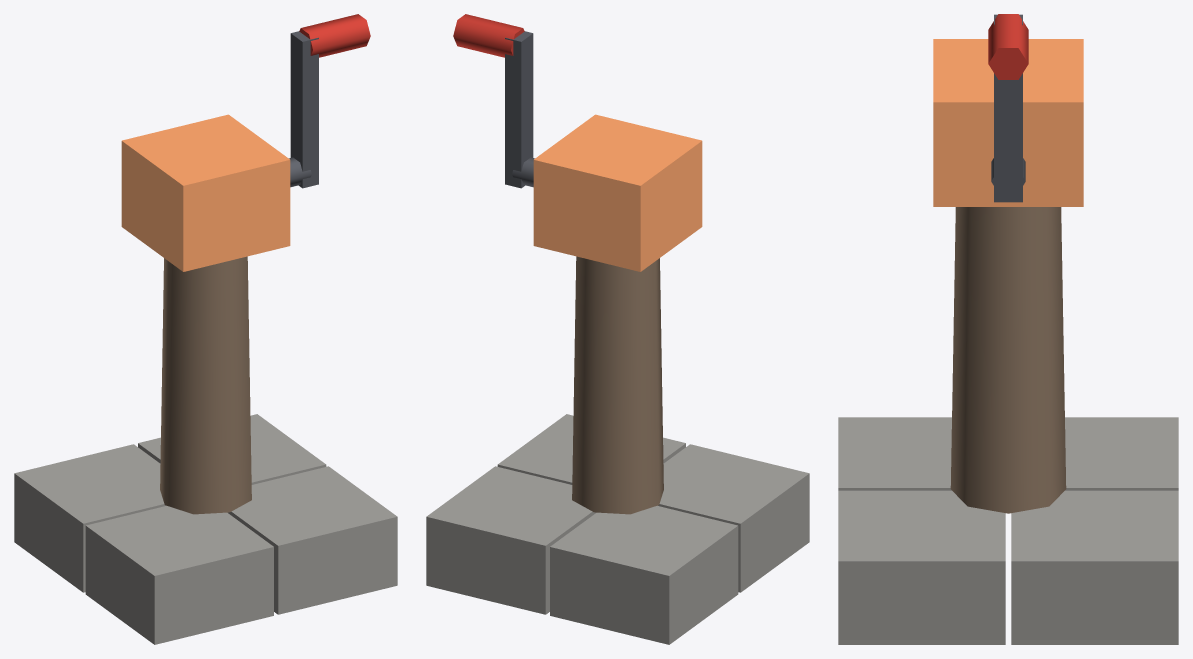
Rendered from build_crank.glb.
The picture shows the model from 3 angles, left to right: view 1: azimuth 30°, elevation 25°; view 2: azimuth 150°, elevation 25°; view 3: azimuth 270°, elevation 25°; orthographic projection. The views are drawn at different scales.
Visible parts, largest first — view 1: Baked, _MeshInstance3D_226, _MeshInstance3D_227; view 2: Baked, _MeshInstance3D_226, _MeshInstance3D_227; view 3: Baked, _MeshInstance3D_226, _MeshInstance3D_227.
Boxes of the visible parts, box(x1,y1,x2,y2) form: Baked: box(14, 114, 397, 644); _MeshInstance3D_226: box(290, 31, 318, 188); _MeshInstance3D_227: box(299, 14, 370, 57); Baked: box(426, 114, 809, 644); _MeshInstance3D_226: box(505, 31, 533, 188); _MeshInstance3D_227: box(453, 14, 524, 57); Baked: box(838, 39, 1178, 644); _MeshInstance3D_226: box(994, 14, 1022, 202); _MeshInstance3D_227: box(988, 14, 1028, 79).
Size of the model in its own units: 0.675 by 1.18 by 0.59.
